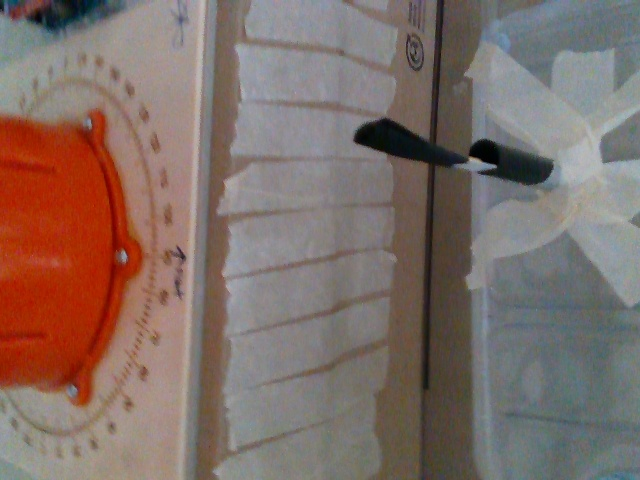test_strip: (351, 113, 493, 172)
